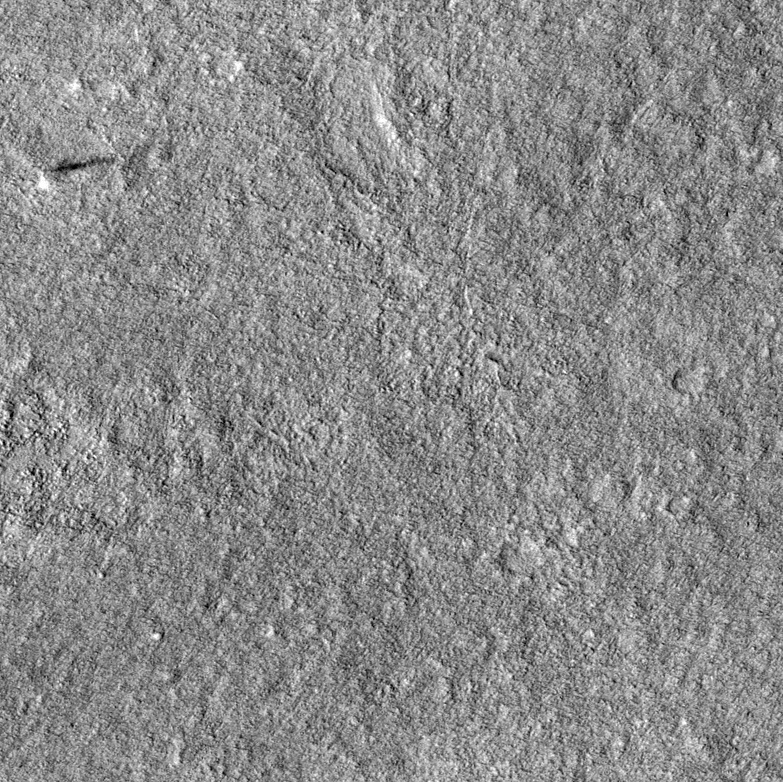dust_devil: (36, 153, 117, 191)
